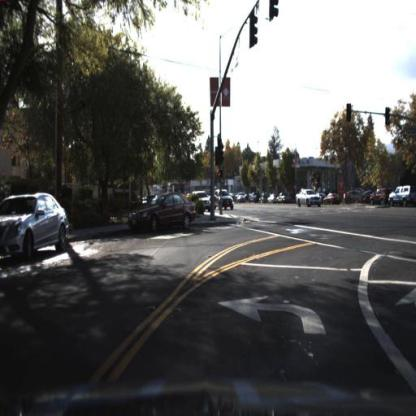car: (1, 189, 74, 265), (128, 188, 202, 236), (382, 183, 412, 206), (214, 188, 239, 215), (387, 186, 416, 208), (298, 187, 324, 211), (193, 191, 216, 215), (363, 185, 384, 206), (345, 186, 363, 204), (264, 189, 278, 205), (249, 190, 263, 204)
